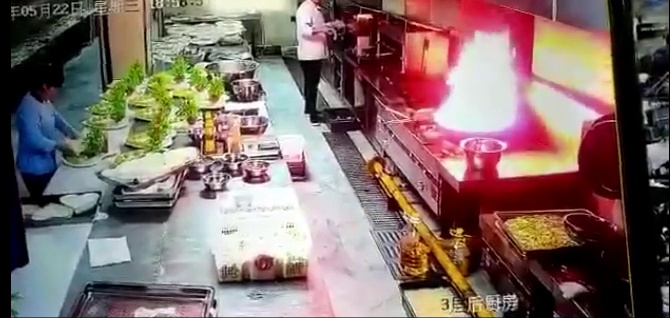fire: (444, 30, 521, 130)
